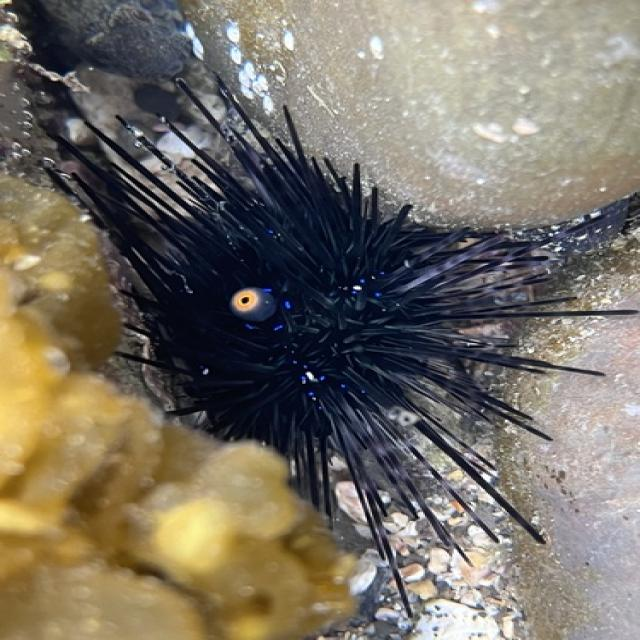Urchin: (44, 72, 640, 617)
